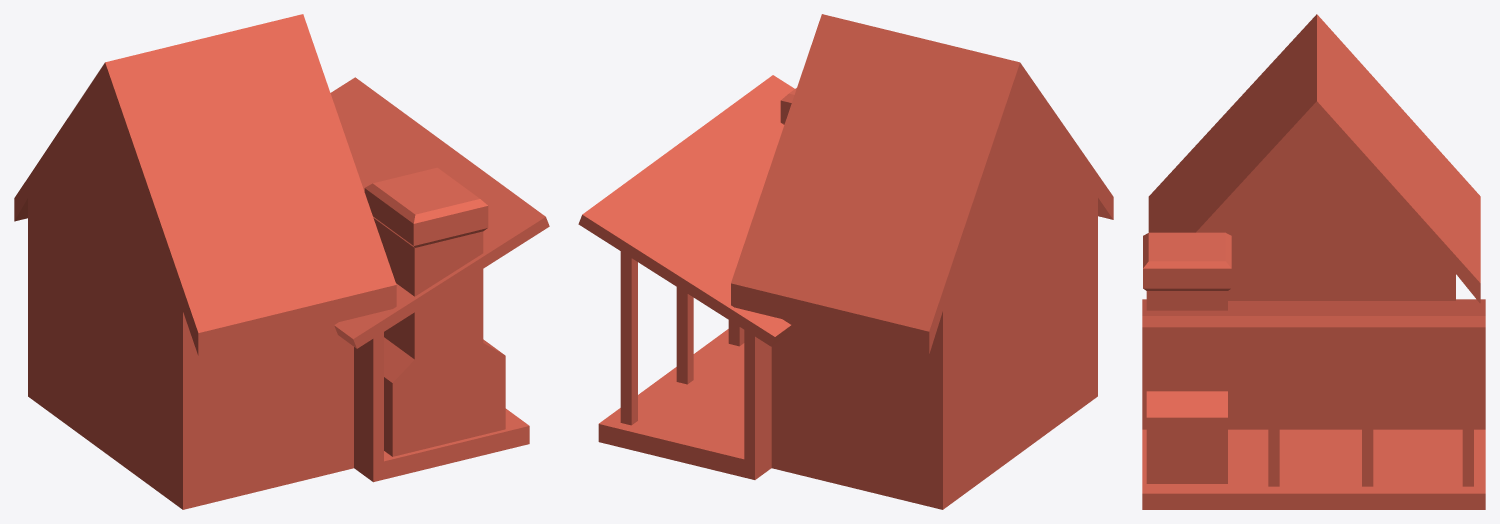
File: forge02.glb
The picture shows the model from 3 angles, left to right: view 1: azimuth 30°, elevation 25°; view 2: azimuth 150°, elevation 25°; view 3: azimuth 270°, elevation 25°; orthographic projection. The views are drawn at different scales.
Parts seen in each view (by area): view 1: Smithy02; view 2: Smithy02; view 3: Smithy02.
Part boxes in pixels (x1,y1,x2,y2): Smithy02: (14, 14, 549, 509); Smithy02: (578, 14, 1113, 509); Smithy02: (1142, 14, 1485, 509).
Size of the model in its own units: 1.6 by 1.72 by 1.52.
